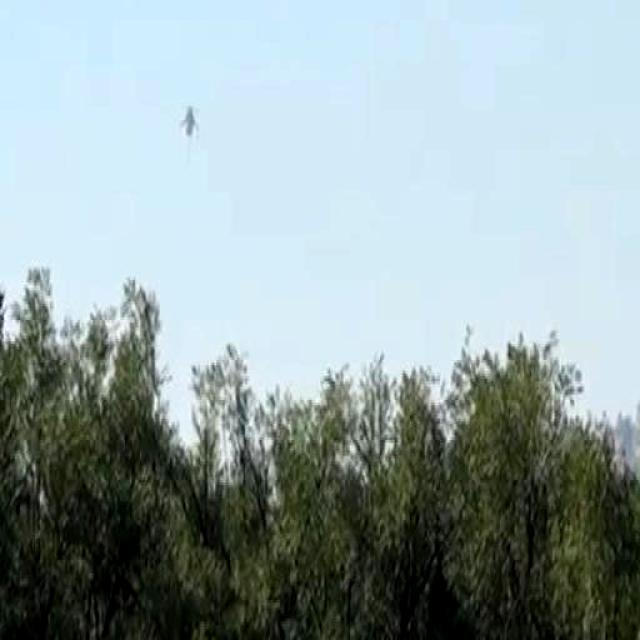drone: (180, 105, 199, 141)
